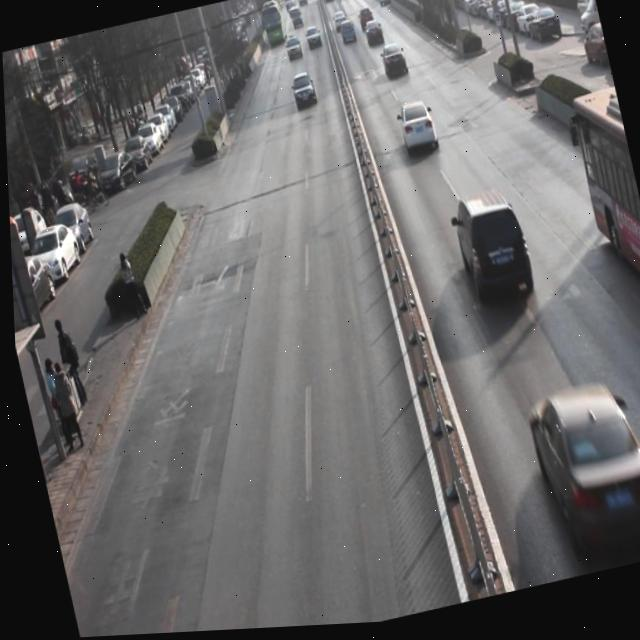car: (518, 376, 640, 581), (446, 188, 536, 311), (395, 103, 439, 161), (288, 74, 319, 114), (378, 46, 409, 82)
van: (565, 82, 640, 360)
